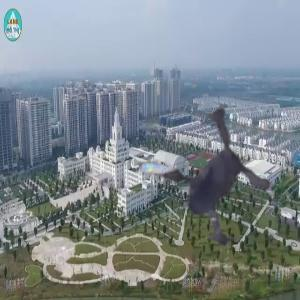drone: (79, 62, 296, 279)
